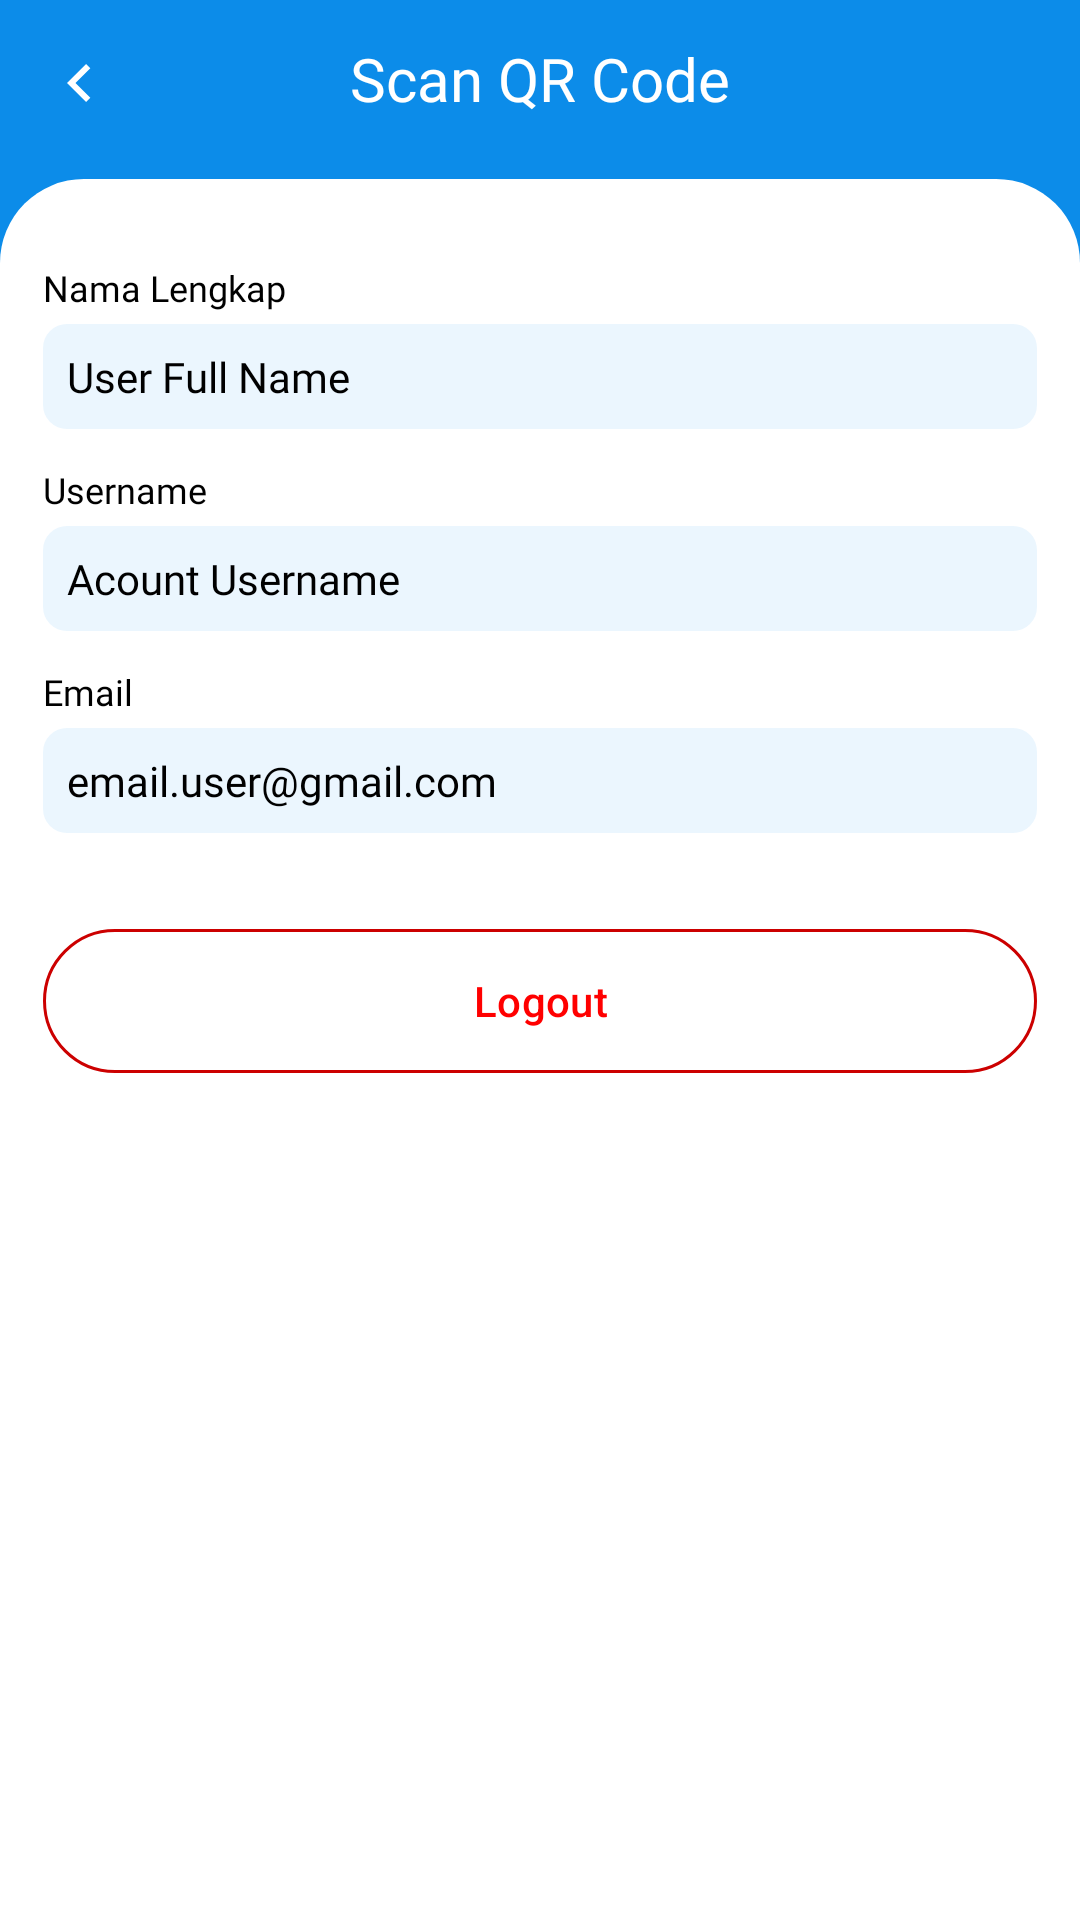

Point at icon controls on the screen. Image size 1080px×1920px, points as (x,y).
Back: (78,83)
